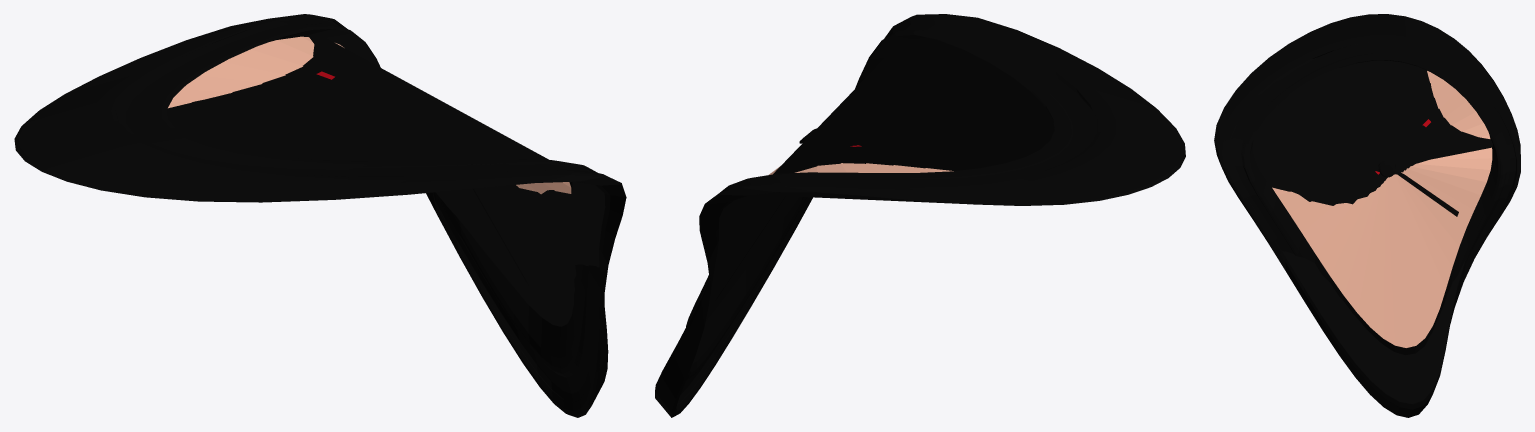
Rendered from melting clock3.fbx.
3 renders of one model, left to right at view 1: azimuth 30°, elevation 25°; view 2: azimuth 150°, elevation 25°; view 3: azimuth 270°, elevation 25°, orthographic. The views are drawn at different scales.
Visible parts, largest first — view 1: Cylinder; view 2: Cylinder; view 3: Cylinder.
Part boxes in pixels (box(x1,y1,x2,y2)): Cylinder: box(14, 14, 626, 417); Cylinder: box(655, 14, 1185, 417); Cylinder: box(1214, 14, 1520, 417).
Bounding box in the file's own units: 462 × 312 × 356.
